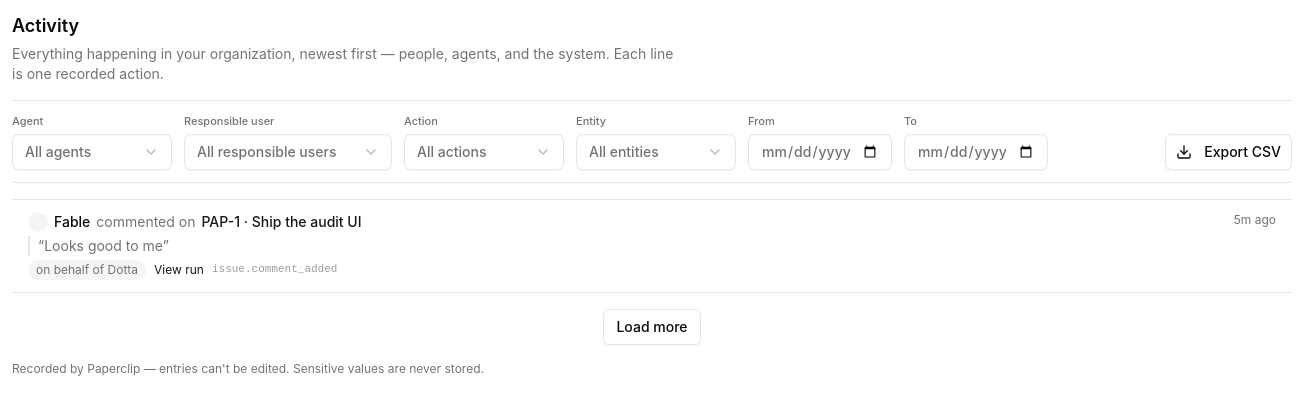
AuditFeed › drops cached privileged pages when pagination observes an access downgrade
Click the button "Load more".
click(652, 326)  # box [603,308,700,344]
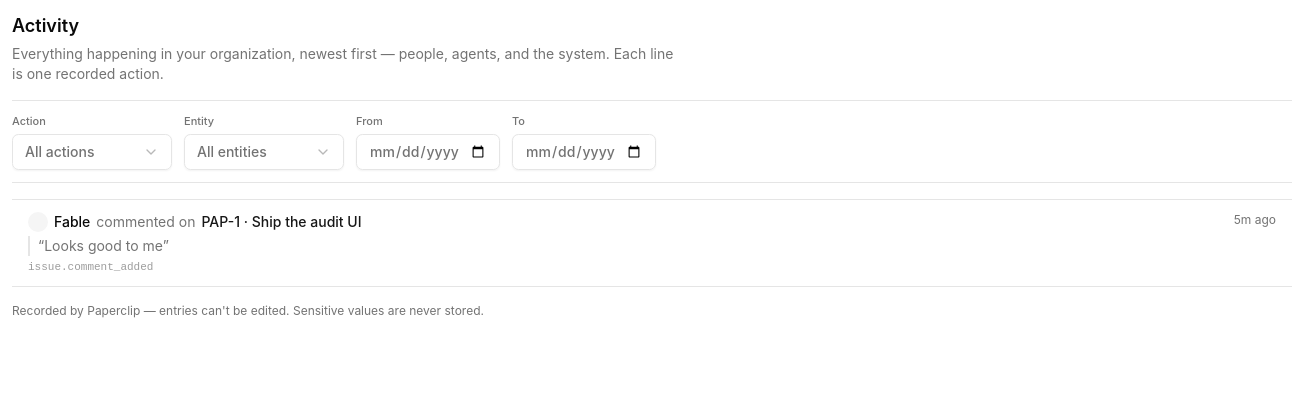
Expected: the text "on behalf of Dotta" is gone
Expected: the link to "/agents/agent-1/runs/run-1" is gone
Expected: the text "All agents" is gone
